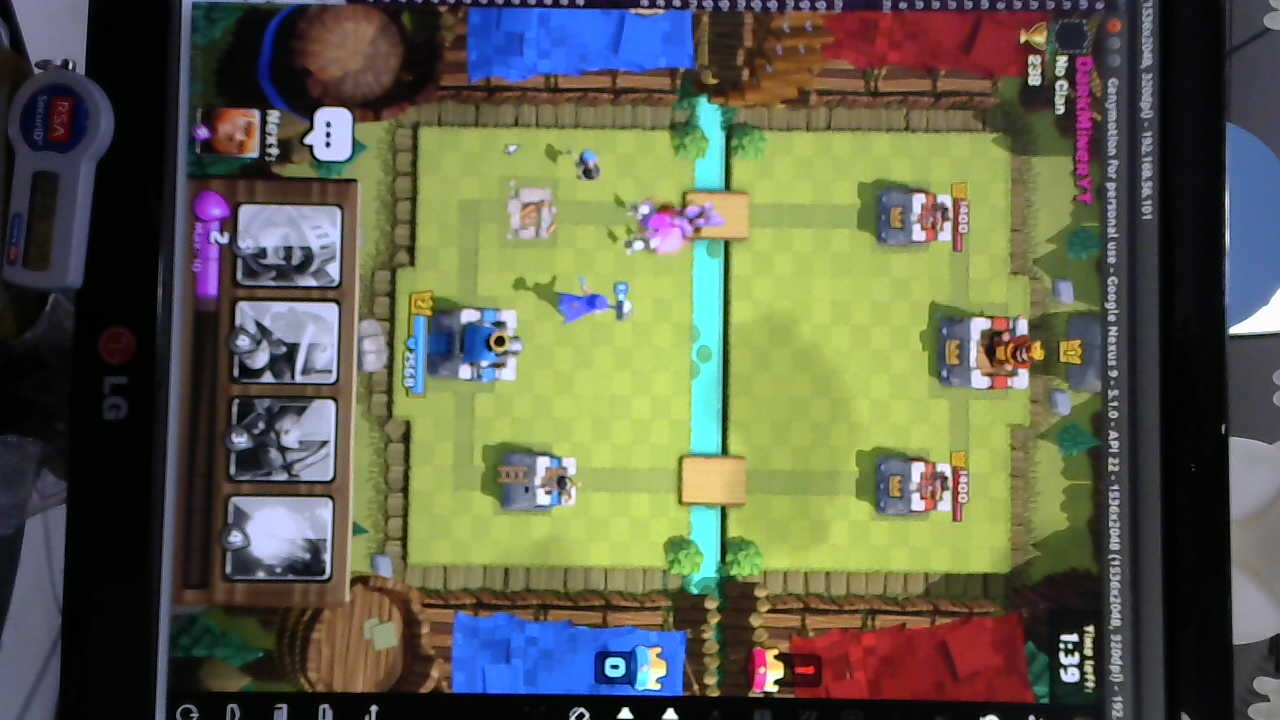arena: (500, 447, 579, 512)
bomb: (566, 146, 604, 184)
darena: (505, 182, 559, 242)
earena: (873, 452, 954, 519), (870, 189, 959, 248)
eking: (925, 313, 1038, 394)
king: (424, 302, 523, 386)
skeleton: (615, 203, 665, 260)
witch: (557, 287, 633, 325)
